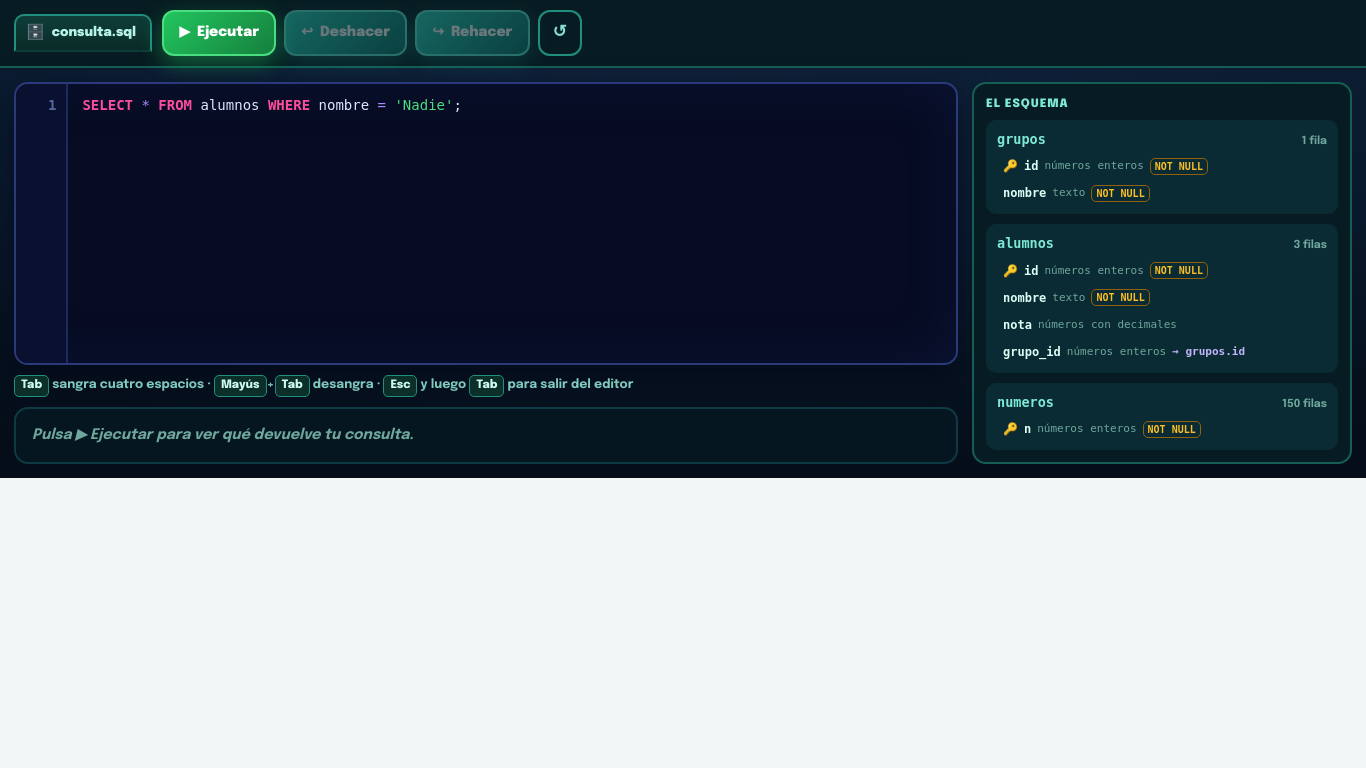
Test case: VentanaDatos › una consulta que no encuentra ninguna fila lo dice, y no es lo mismo que un error
Click the button with test id "dat-ejecutar" at coordinates (219, 33), box left=162, top=10, right=276, bottom=56
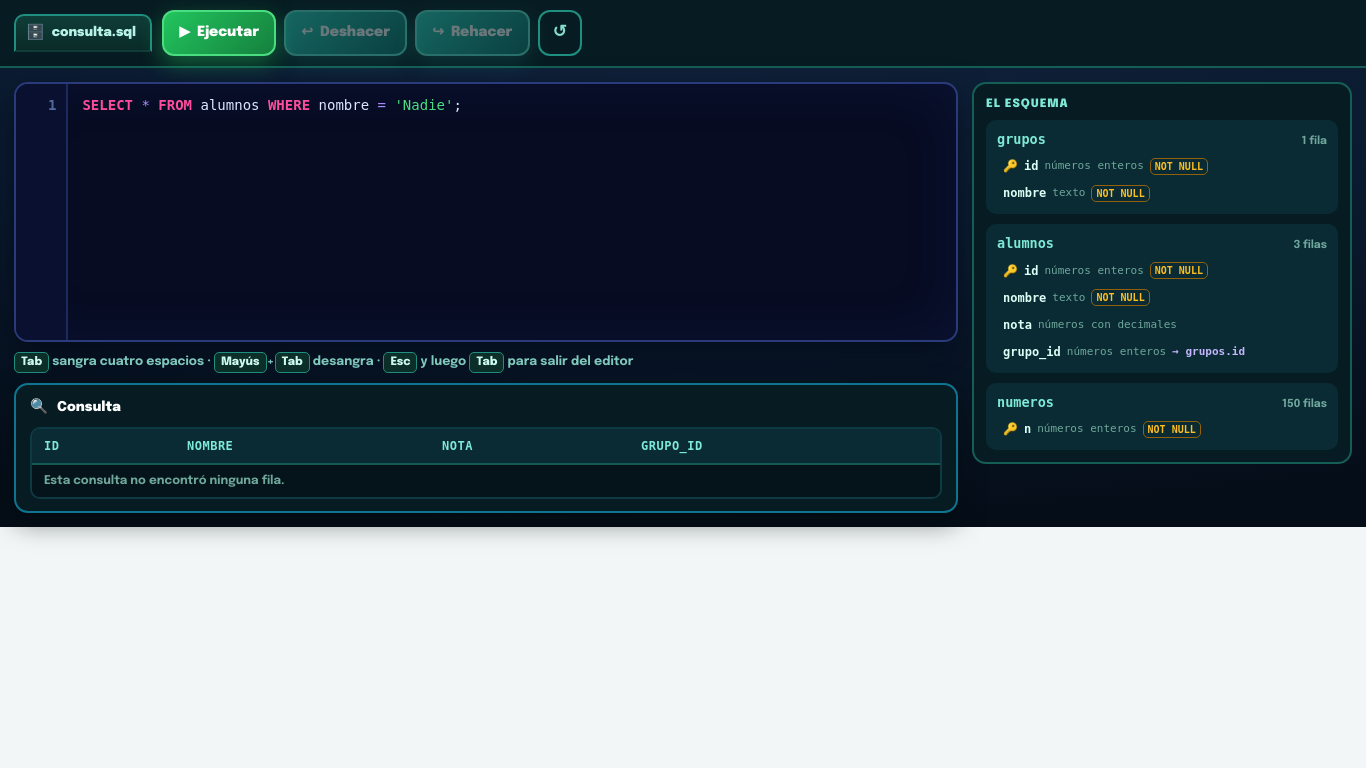
Expected: the text with test id "dat-tabla-cero" reads "Esta consulta no encontró ninguna fila.", left=44, top=474, right=284, bottom=486
